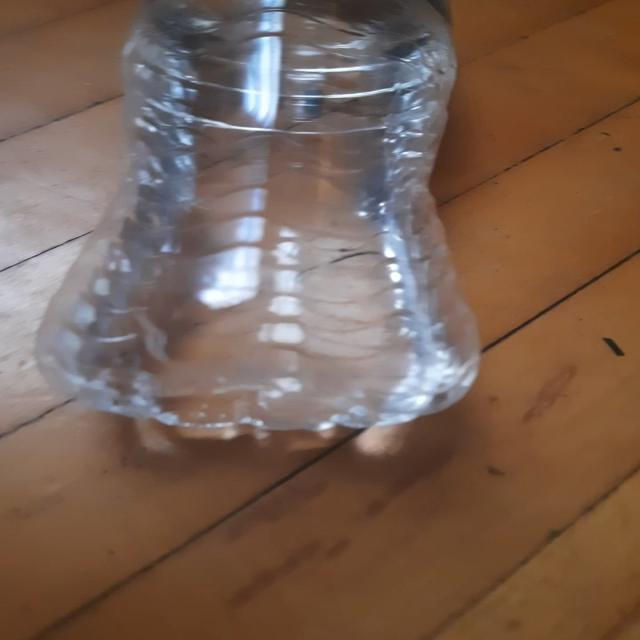Plastic: (35, 0, 483, 451)
